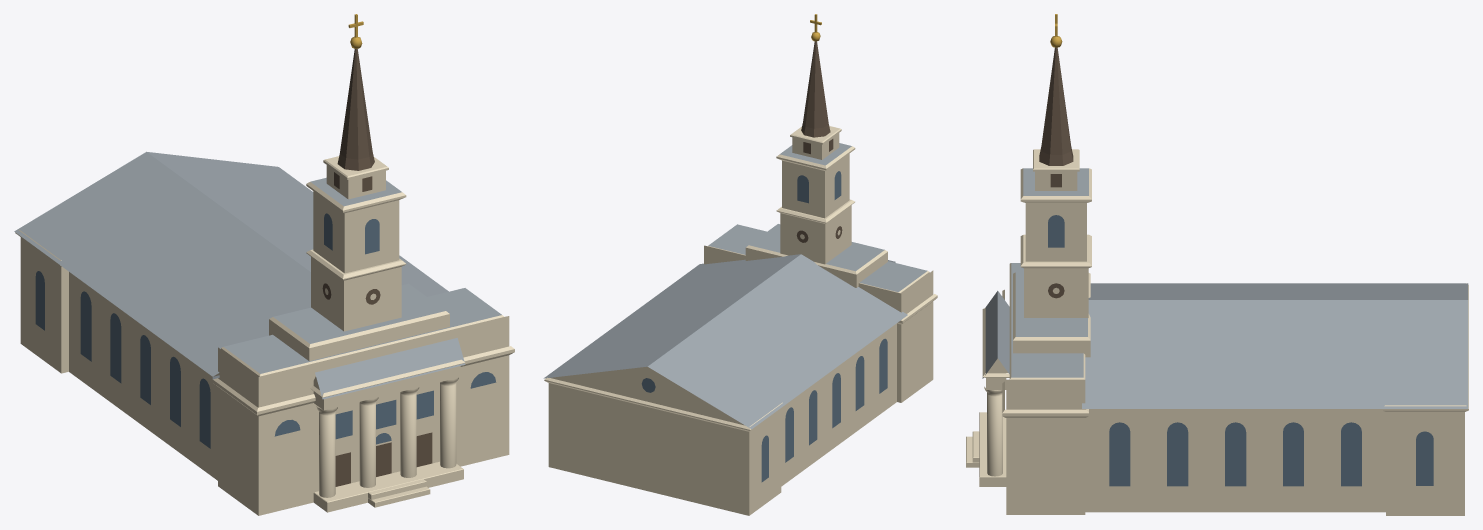
Rendered from stl-old-cathedral.glb.
3 renders of one model, left to right at view 1: azimuth 30°, elevation 25°; view 2: azimuth 150°, elevation 25°; view 3: azimuth 270°, elevation 25°, orthographic. The views are drawn at different scales.
Parts seen in each view (by area): view 1: Basilica of Saint Louis, King of France (Old Cathedral); view 2: Basilica of Saint Louis, King of France (Old Cathedral); view 3: Basilica of Saint Louis, King of France (Old Cathedral).
Boxes of the visible parts, left/top/right/bottom form: Basilica of Saint Louis, King of France (Old Cathedral): left=14, top=14, right=514, bottom=515; Basilica of Saint Louis, King of France (Old Cathedral): left=543, top=14, right=937, bottom=515; Basilica of Saint Louis, King of France (Old Cathedral): left=966, top=14, right=1468, bottom=515.
Bounding box in the file's own units: 26.7 × 43.6 × 45.15.
